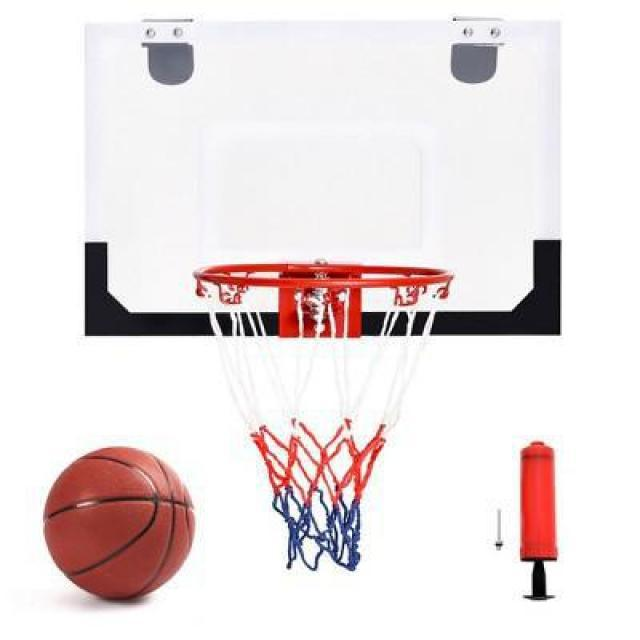Basketball: (43, 446, 197, 600)
hoop: (194, 260, 456, 572)
